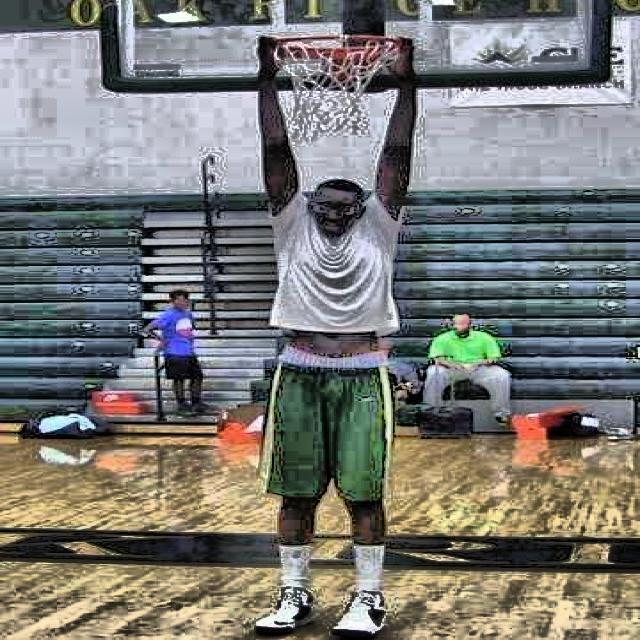rim: (273, 31, 397, 140)
